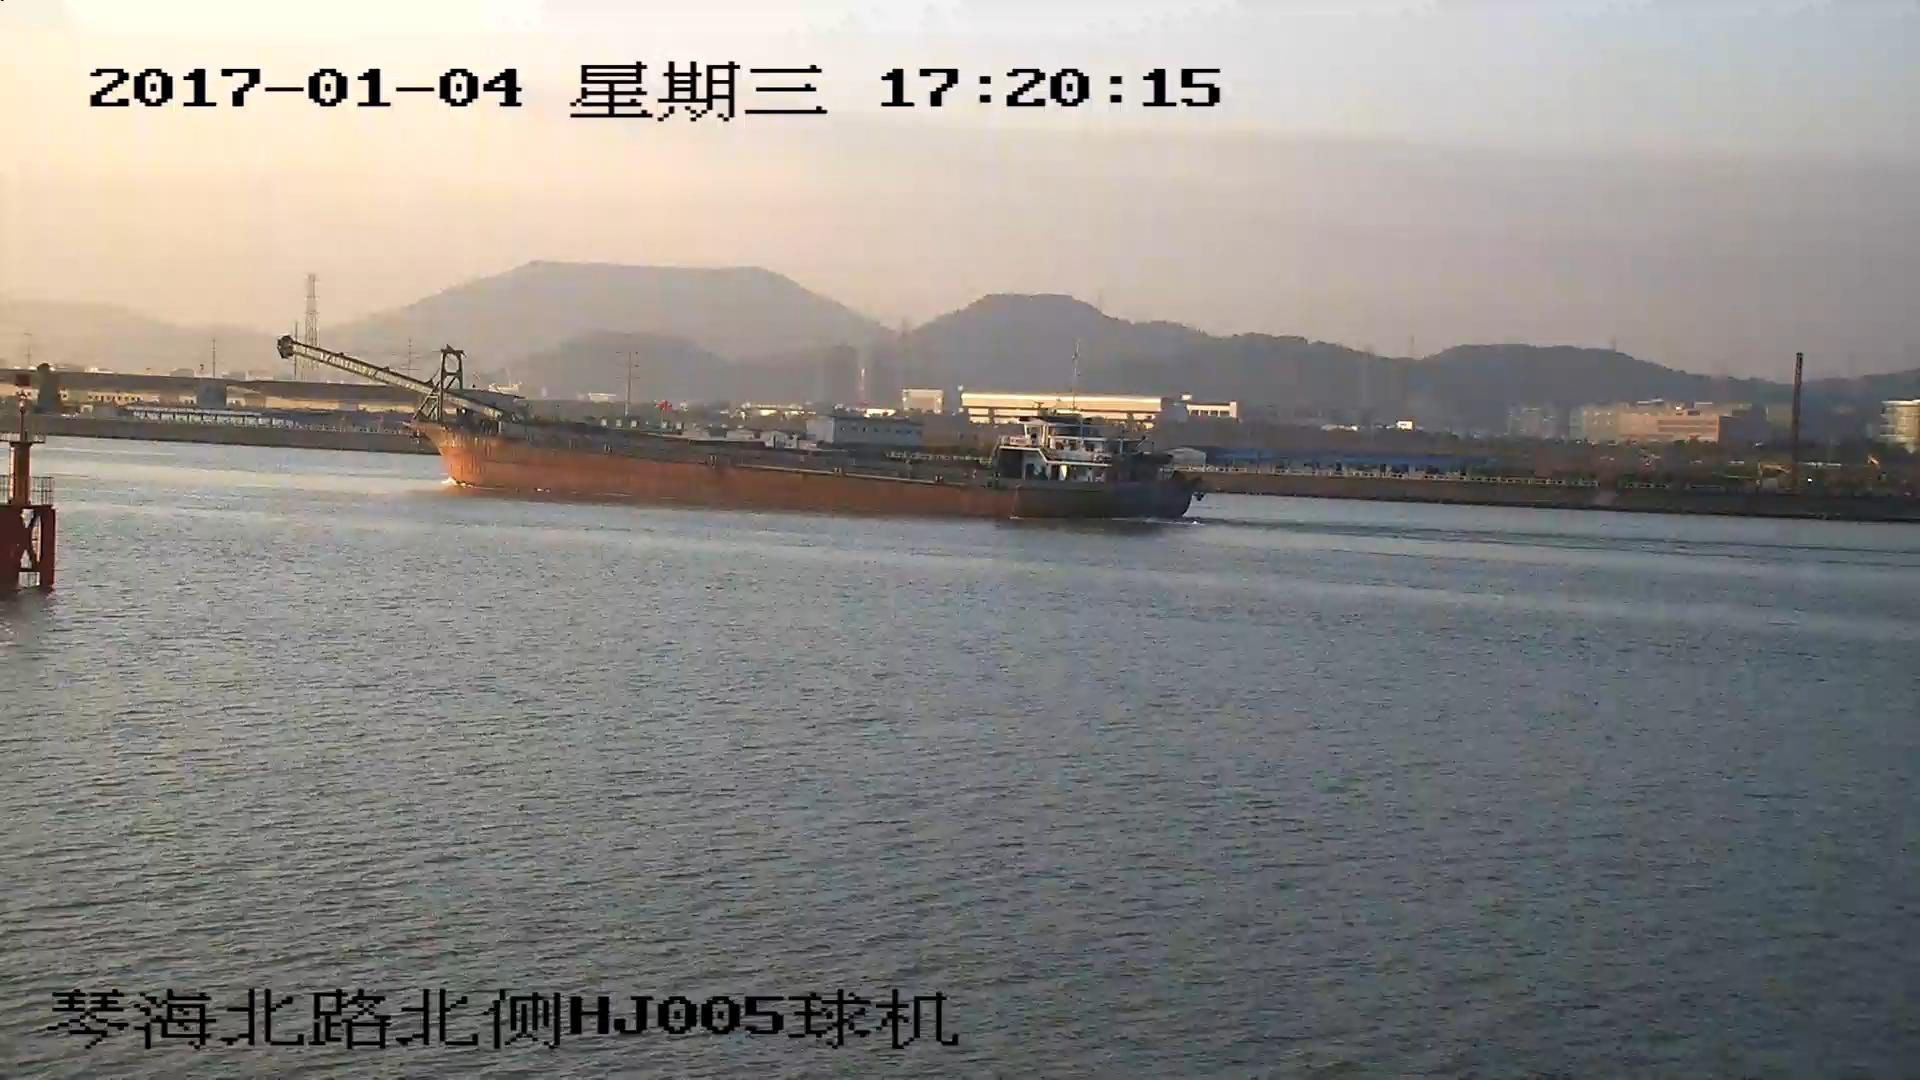bulk cargo carrier: (284, 343, 1199, 525)
